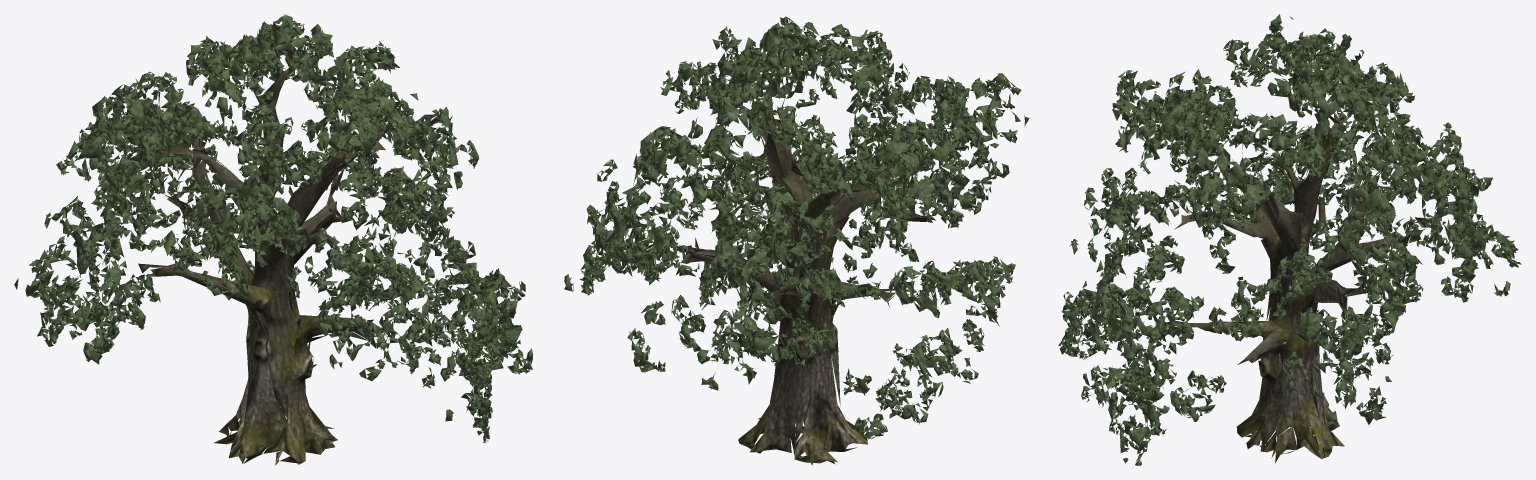
The model's file is tamm_high.glb.
The picture shows the model from 3 angles, left to right: view 1: azimuth 30°, elevation 25°; view 2: azimuth 150°, elevation 25°; view 3: azimuth 270°, elevation 25°; orthographic projection. The views are drawn at different scales.
Visible parts, largest first — view 1: world; view 2: world; view 3: world.
Boxes of the visible parts, left/top/right/bottom form: world: left=14, top=14, right=533, bottom=465; world: left=564, top=16, right=1029, bottom=465; world: left=1058, top=14, right=1521, bottom=465.
Bounding box in the file's own units: 1.06 × 1 × 1.05.
1 material, 1 textured.
